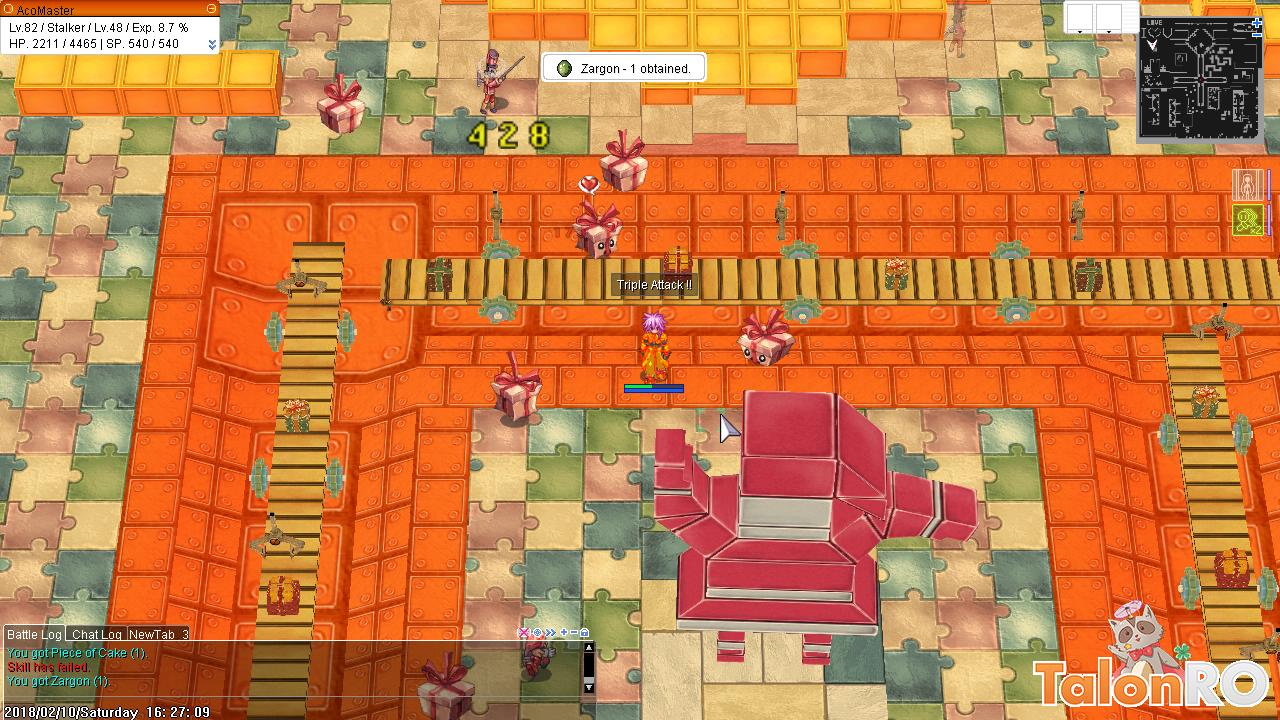mob: (470, 42, 534, 119)
myst_case: (728, 298, 801, 373), (485, 345, 546, 430), (409, 648, 478, 720), (309, 68, 371, 143), (594, 119, 652, 199), (570, 195, 623, 265)
